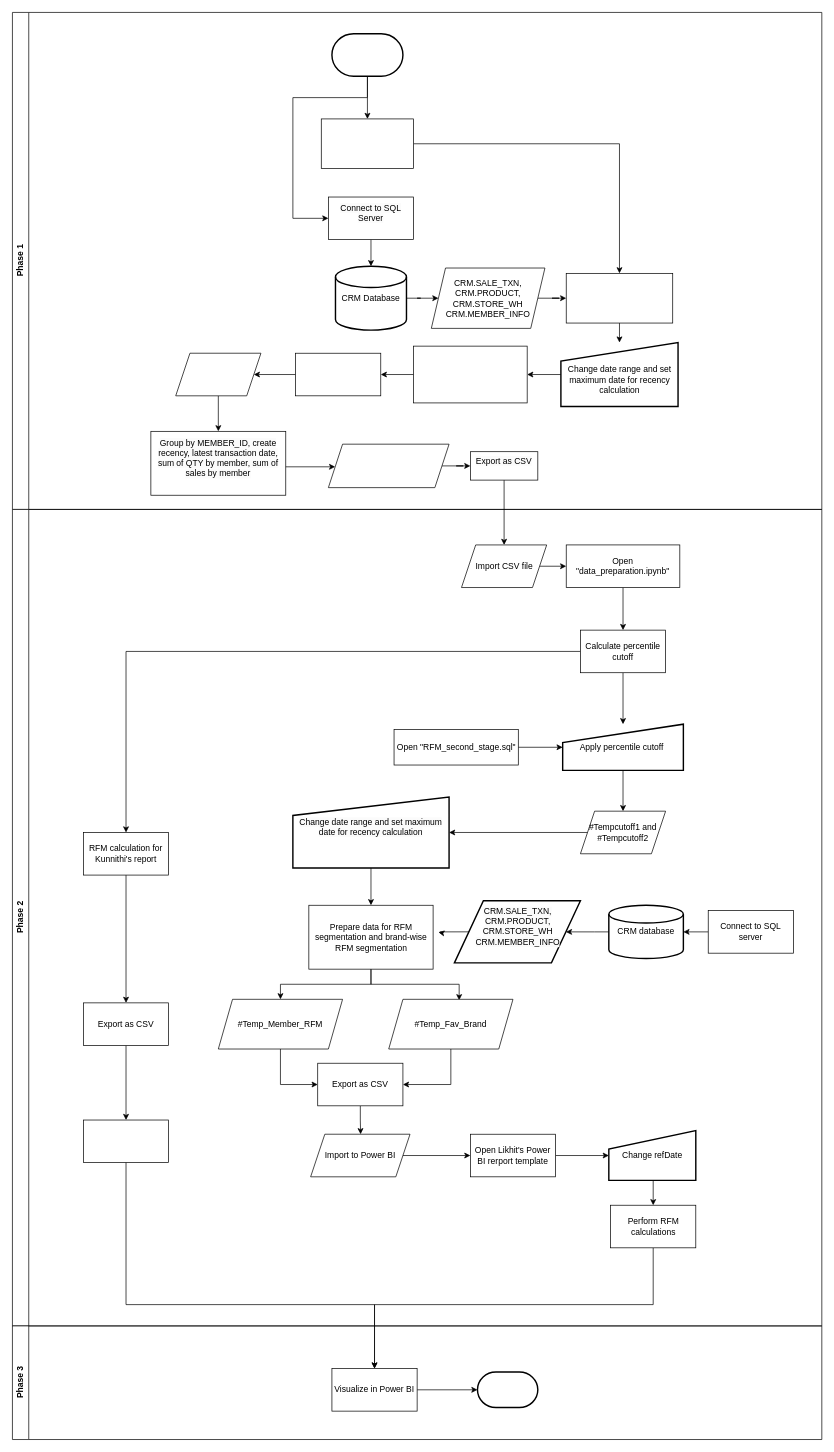
Image size: 834x1452. Some labels were removed from this diagram. The shapes that lost their labels are listed below. From the top down, each one's centre as x and y in pixels, then its label:
point 367,55: START
point 367,143: Open "RFM_first_stage.sql"
point 619,298: Remove product brand name = "General", store WH code = "QRC"
point 218,374: #CleanTxn
point 338,374: Return reason = Null
point 470,374: Filter out MEMBER_ID that does not start with (LM*, LM0, LM1)
point 388,465: #Temp_Member_Metrics
point 126,1141: Refresh data in Power BI
point 507,1389: END
